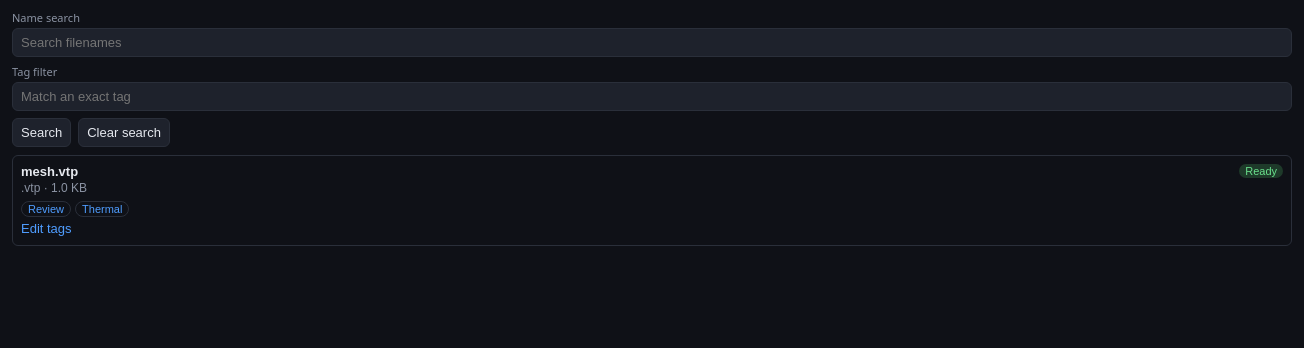
DatasetList tag editing › displays tags and lets editors save a trimmed comma-separated list
The image size is (1304, 348).
Expected: the text "Review" is shown, [21, 201, 71, 217]
Expected: the text "Thermal" is shown, [75, 201, 129, 217]
Click the button "Edit tags" at (46, 228), box [21, 220, 72, 237]
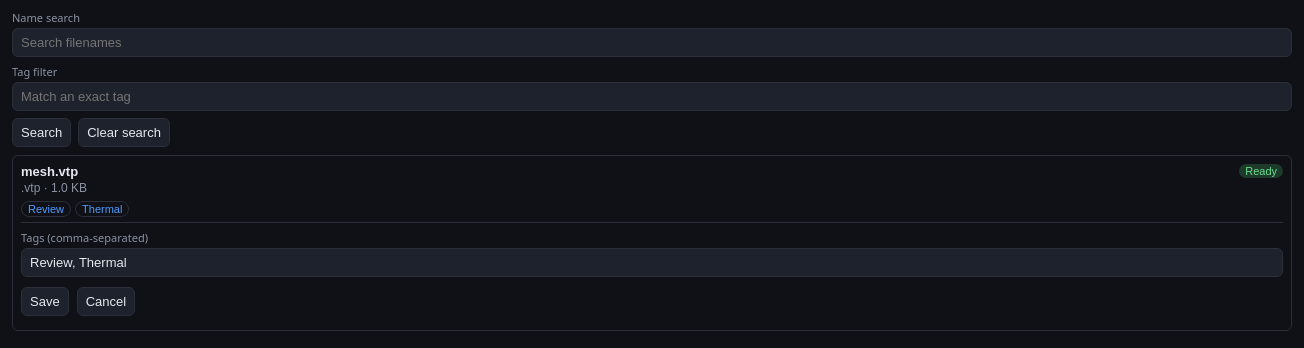
Replace the text in the field labelled "Tags (comma-separated)" with " Thermal, , Approved " at (652, 262), box [21, 248, 1283, 277]
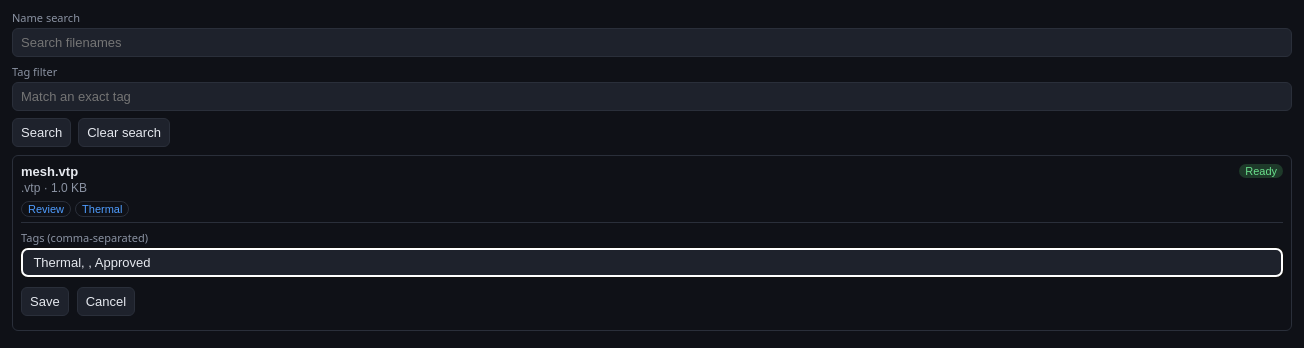
Click the button "Save" at (45, 302), box [21, 287, 69, 316]
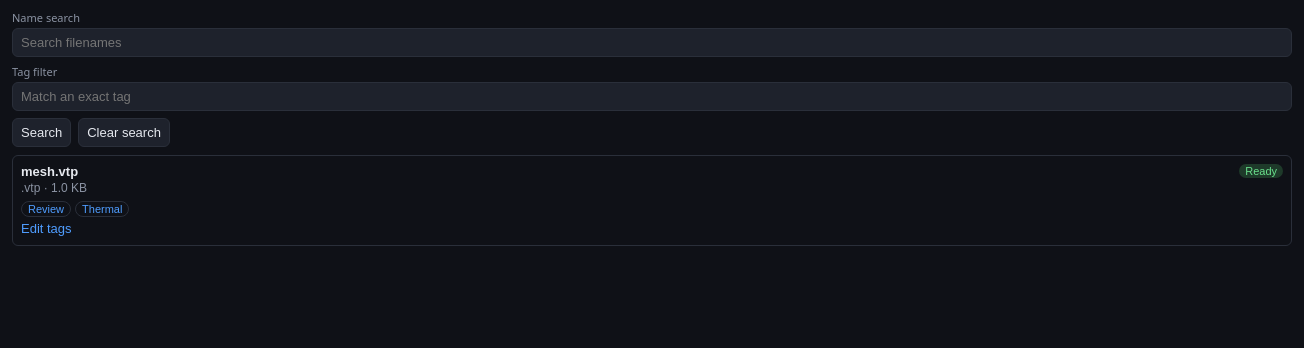
Now the text labelled "Tags (comma-separated)" is gone
